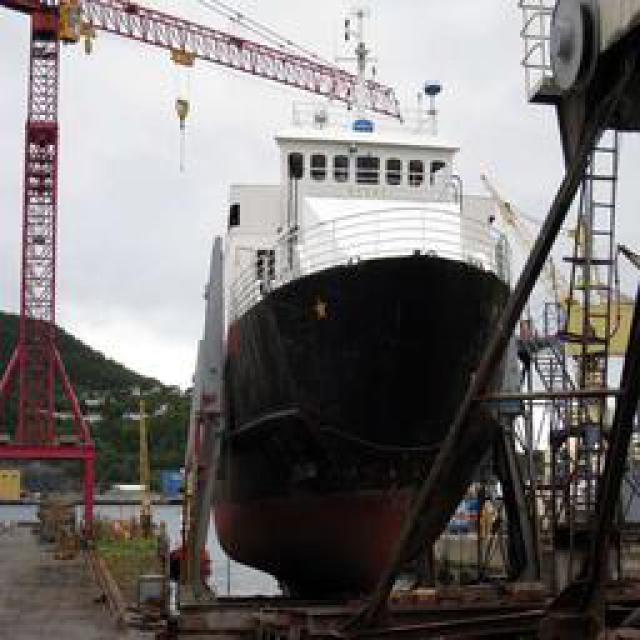Ship: (186, 65, 534, 623)
